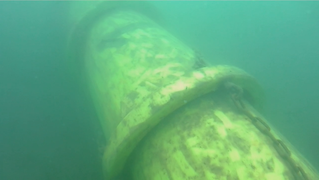1: (96, 21, 165, 53)
pipe: (64, 1, 318, 179)
